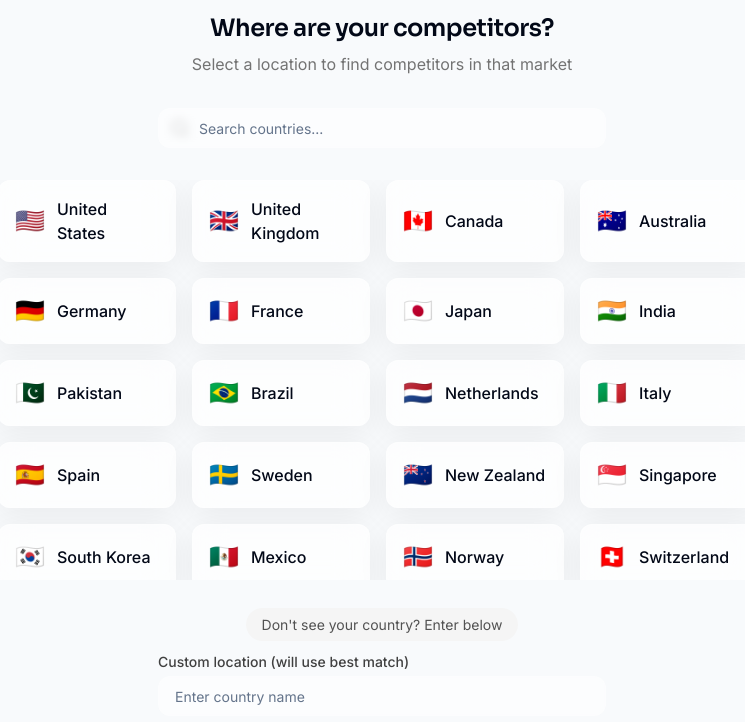
Test: LocationSelector › shows an empty grid when the search matches nothing
In the field with placeholder "Search countries...": {"x": 382, "y": 128} [158, 108, 606, 148], type "zzzznotacountry"
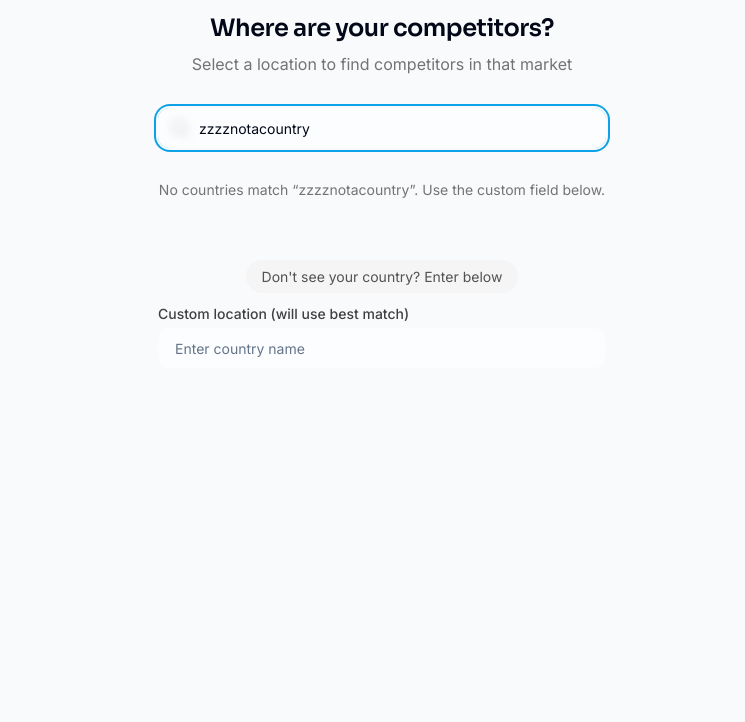
Now the text "United States" is gone
Now the text "Germany" is gone
